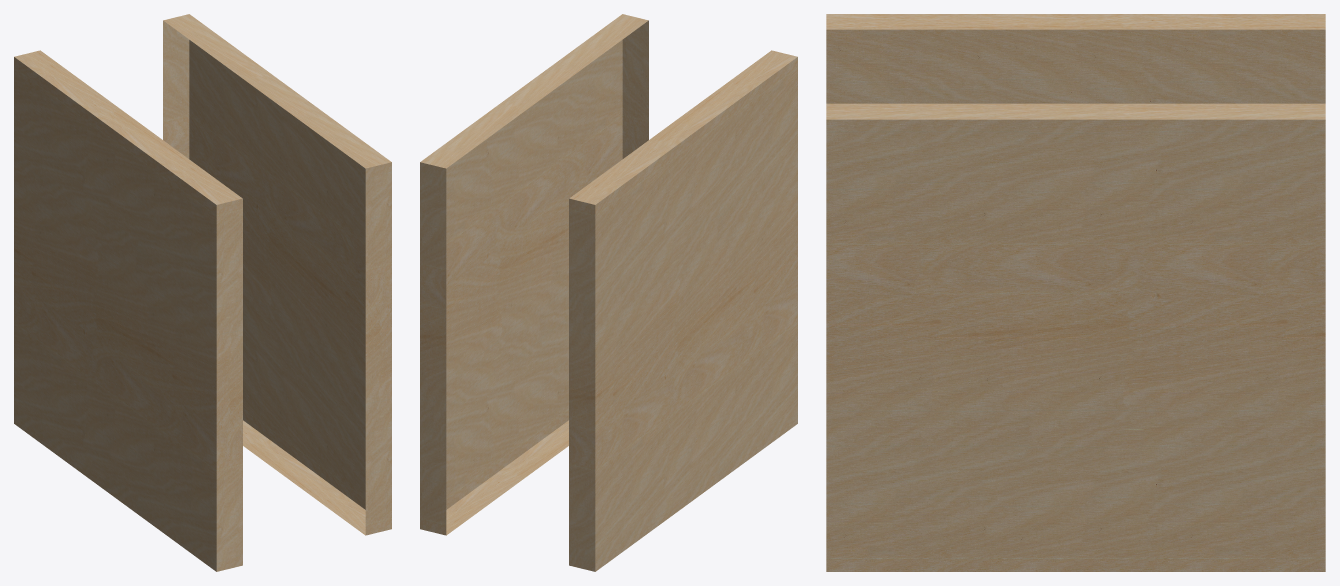
The model's file is simple wall 2x2x1 wood.fbx.
The picture shows the model from 3 angles, left to right: view 1: azimuth 30°, elevation 25°; view 2: azimuth 150°, elevation 25°; view 3: azimuth 270°, elevation 25°; orthographic projection. The views are drawn at different scales.
Visible parts, largest first — view 1: Cube; view 2: Cube; view 3: Cube.
Boxes of the visible parts, x1,y1,x2,y2 form: Cube: (14, 14, 391, 571); Cube: (420, 14, 797, 571); Cube: (826, 14, 1325, 571).
Size of the model in its own units: 100 by 200 by 200.
